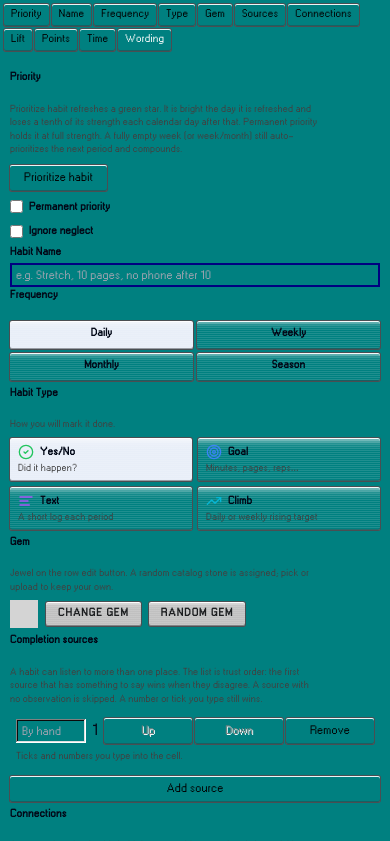
TaskForm › reveals a numeric target when Goal type is selected
Click the radio button labelled "Goal Minutes, pages, reps…".
click(289, 459)  # box [198, 438, 380, 480]
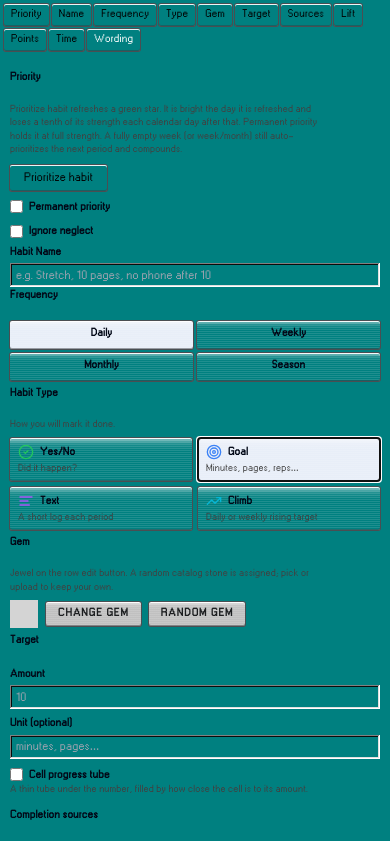
Expected: the number field labelled "Amount" is shown, [10, 685, 380, 709]
Expected: the field labelled "Unit (optional)" is shown, [10, 734, 380, 758]
